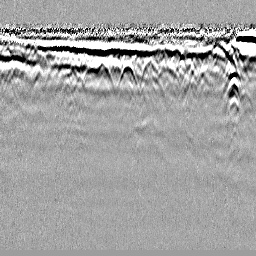cavity: (116, 59, 141, 93)
